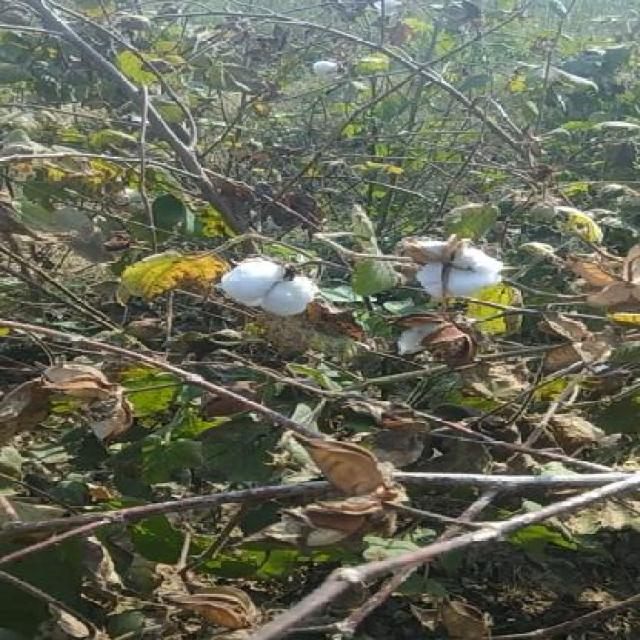cotton_ready: (182, 255, 346, 340), (388, 226, 550, 312)
